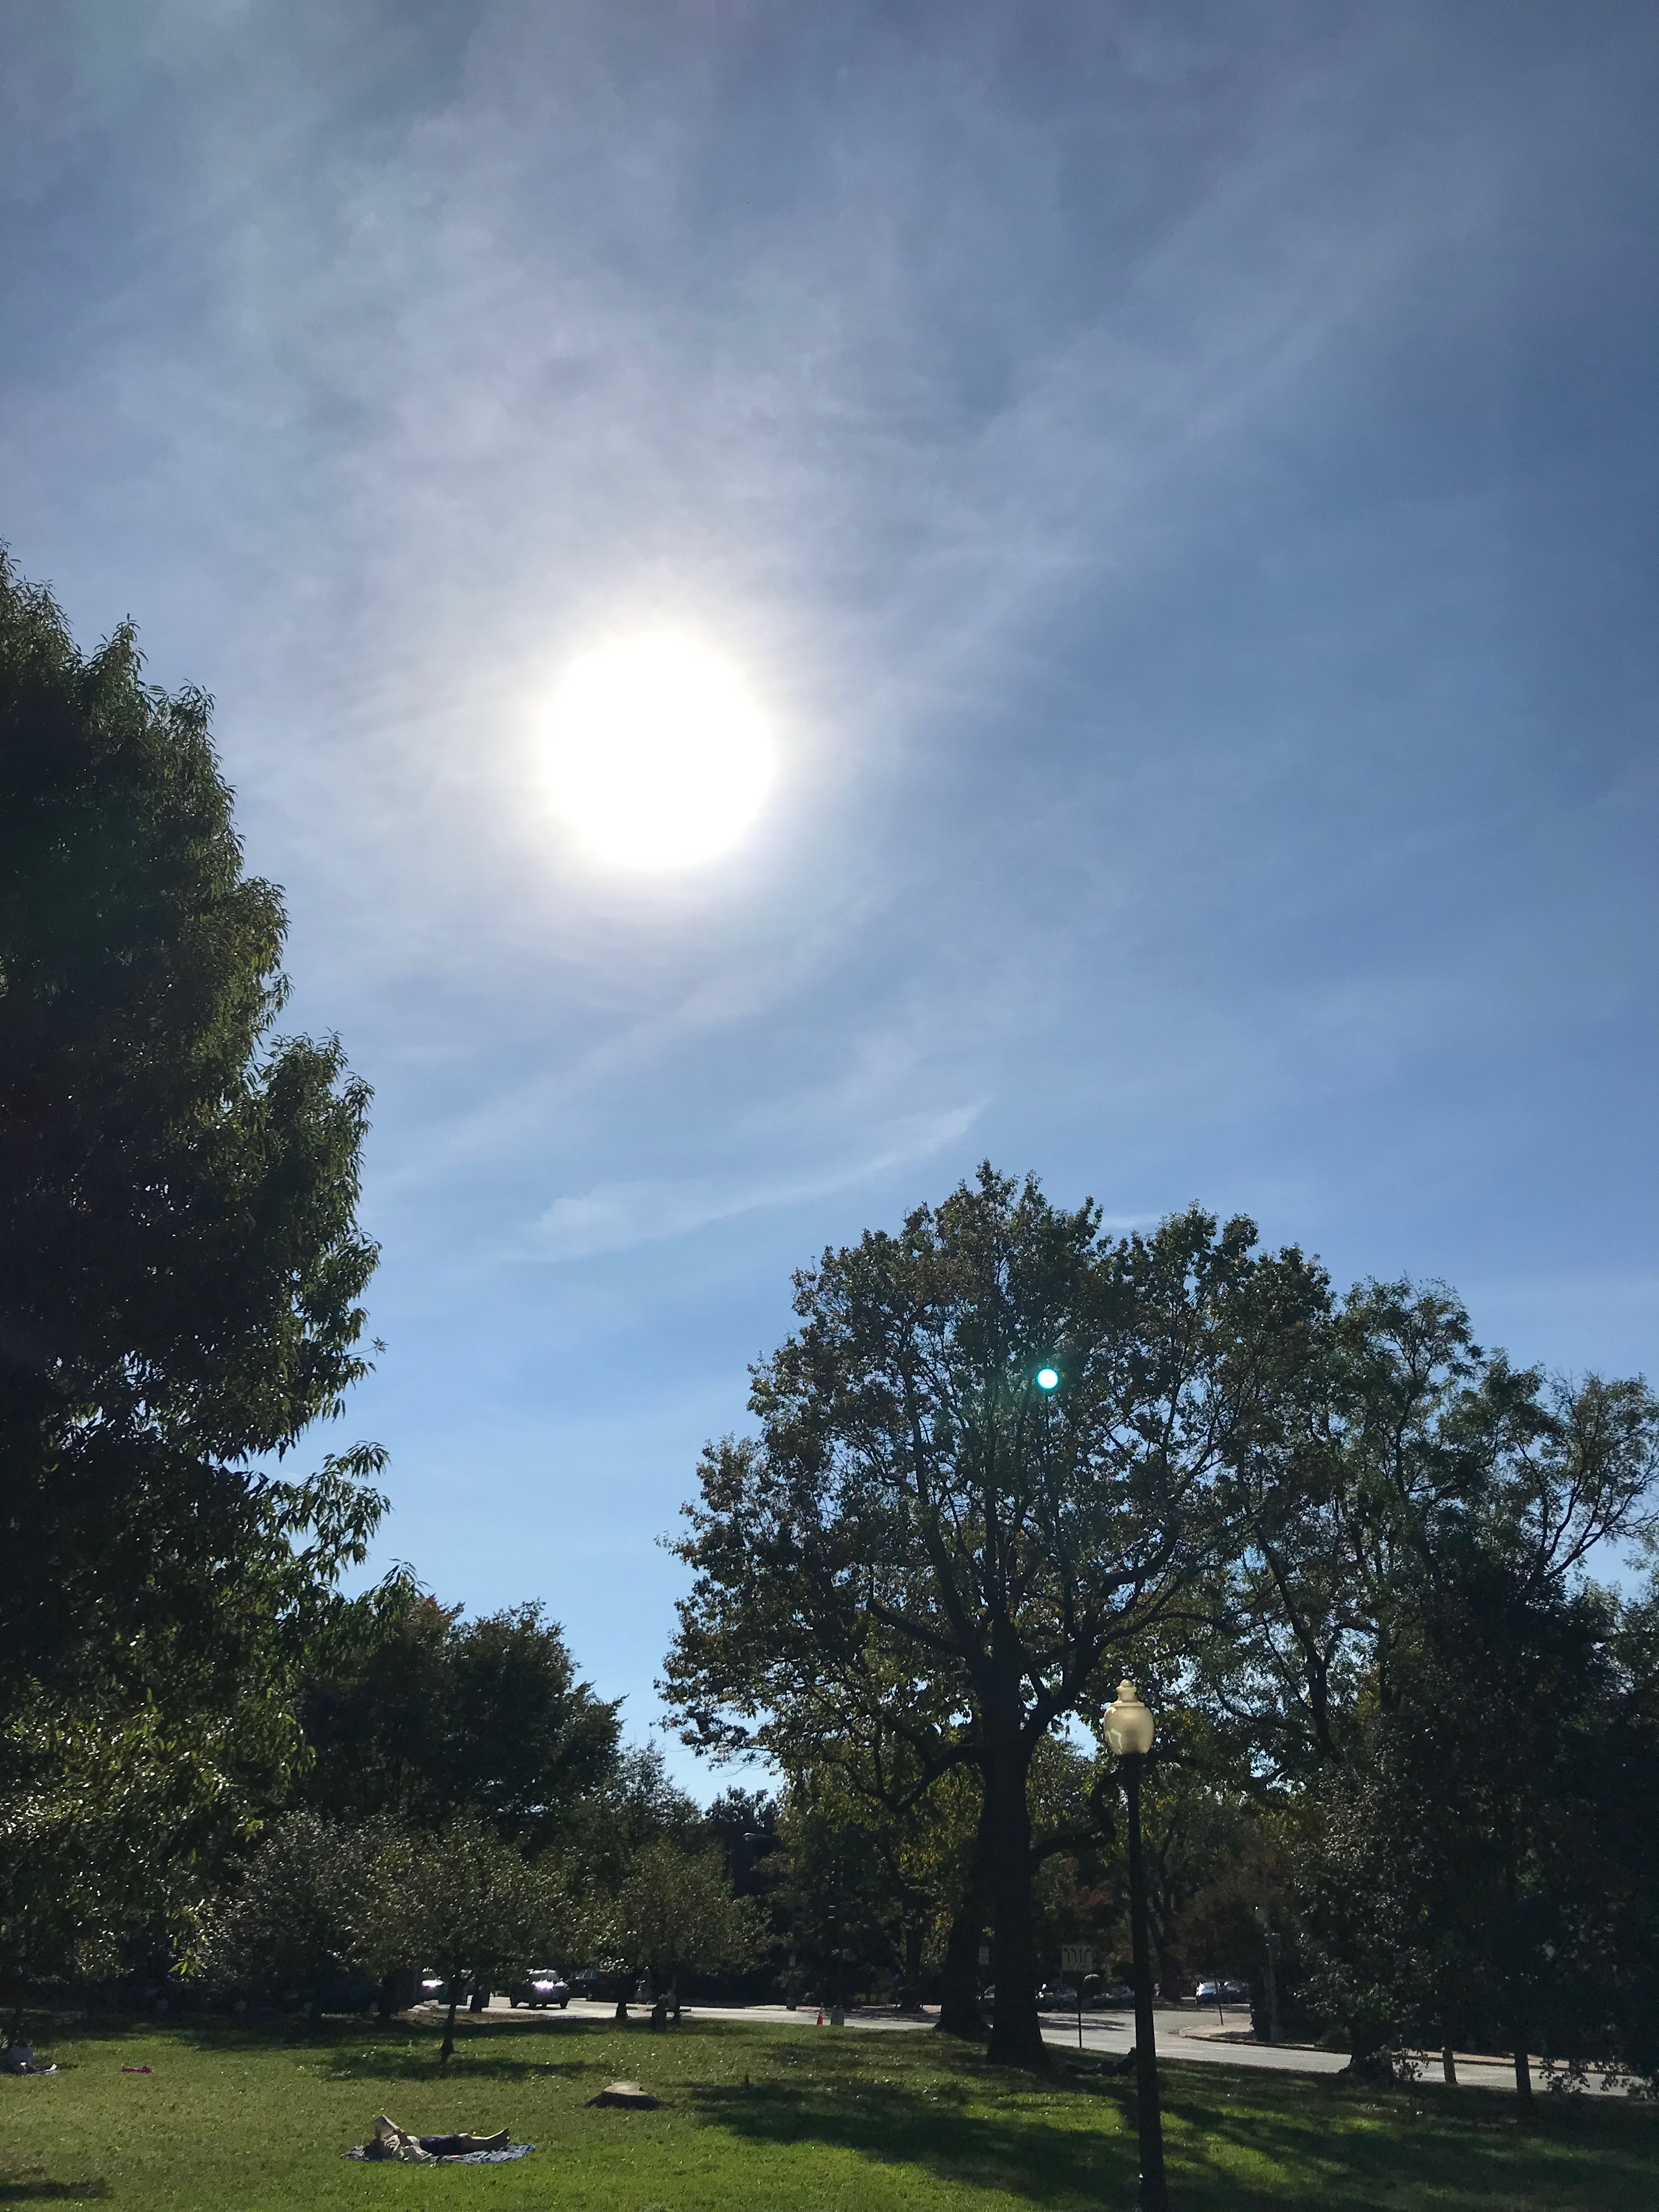flare: (1037, 1367, 1060, 1390)
